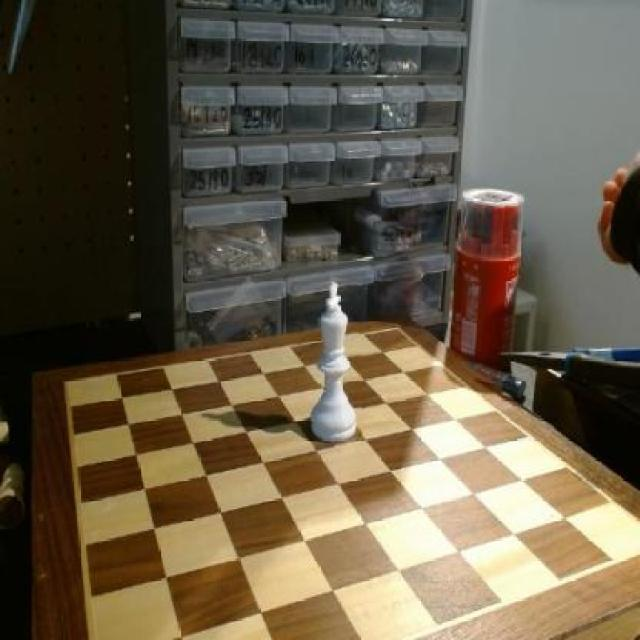white-bishop: (306, 280, 362, 448)
